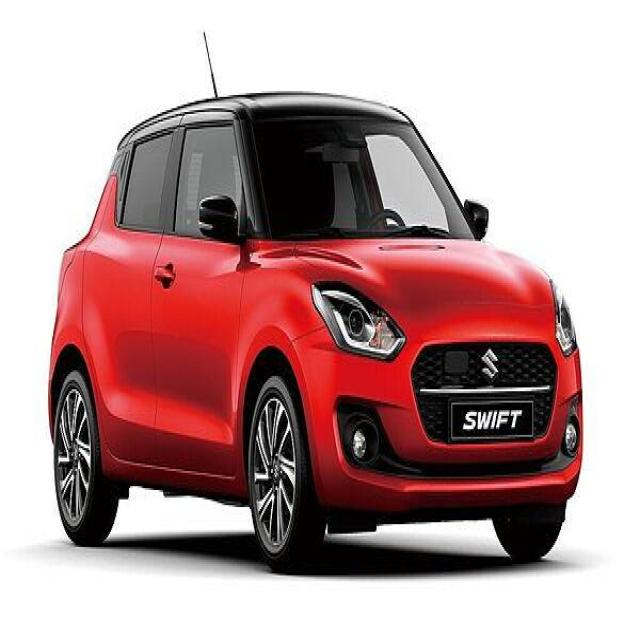cars14: (43, 28, 586, 567)
